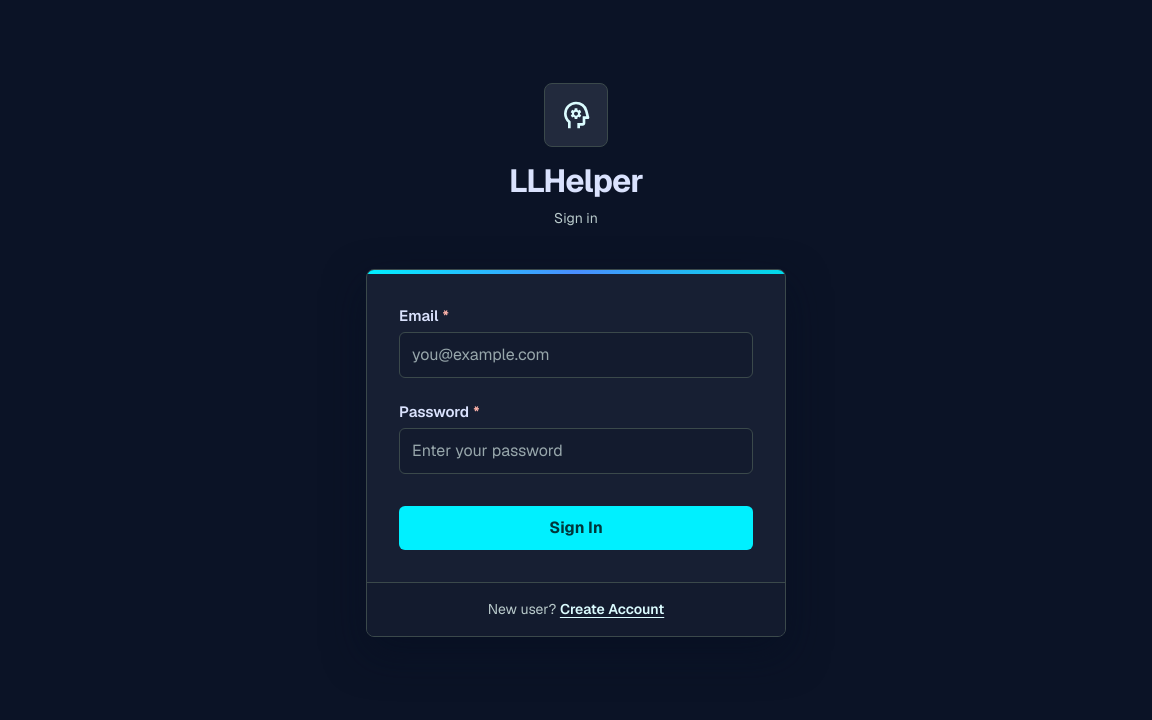
Login orchestration › keeps the token and opens profile onboarding when the profile is missing
The width and height of the screenshot is (1152, 720).
Step 1. Type "learner@example.com" into the field labelled "Email" → (576, 355), box [399,332,753,378]
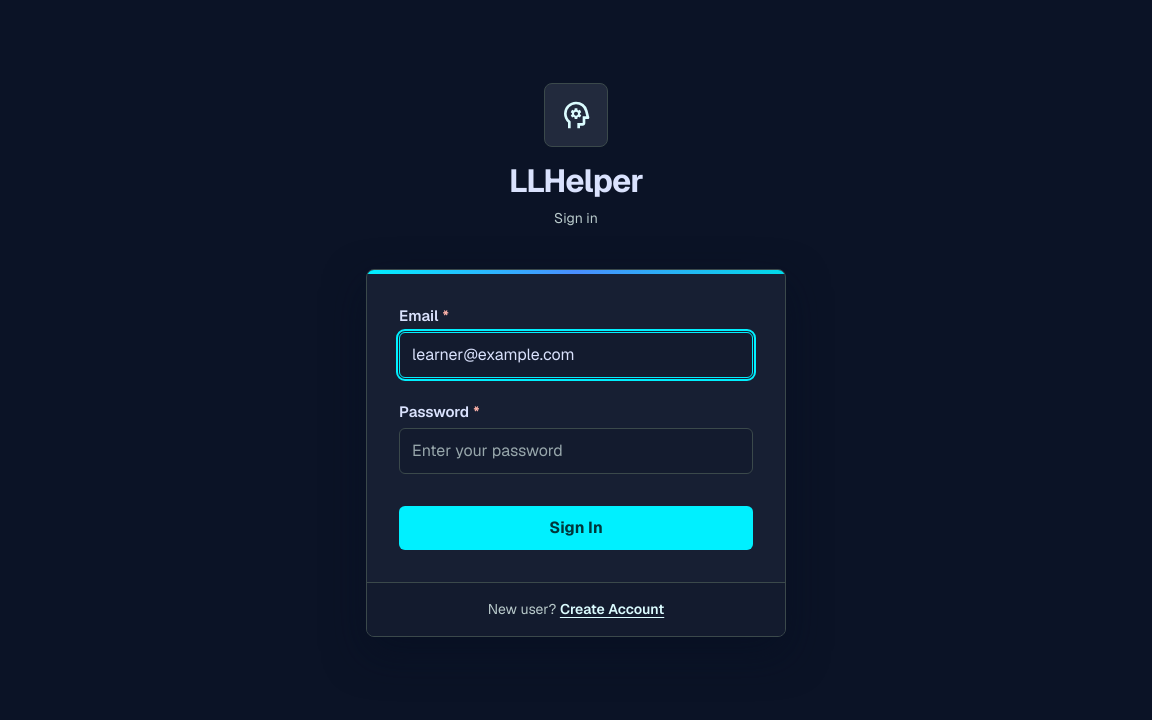
Step 2. Type "password123" into the password field labelled "Password*" → (576, 451), box [399,428,753,474]
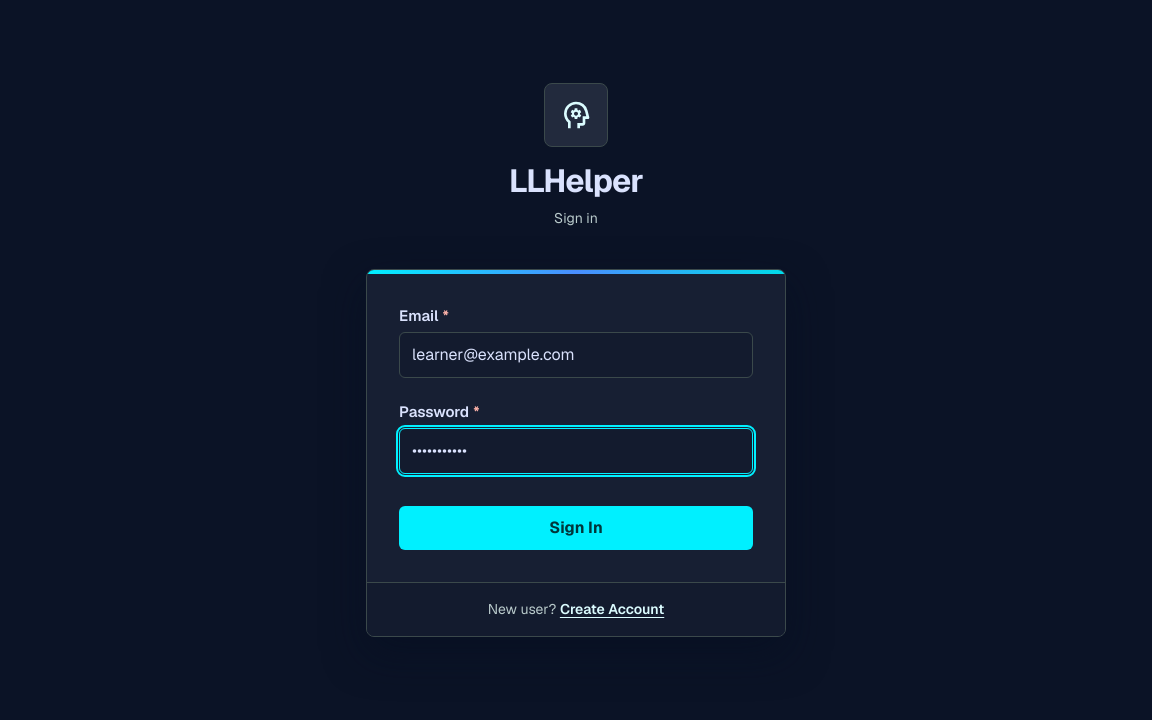
Step 3. Click the button "Sign In" → (576, 528), box [399,506,753,550]
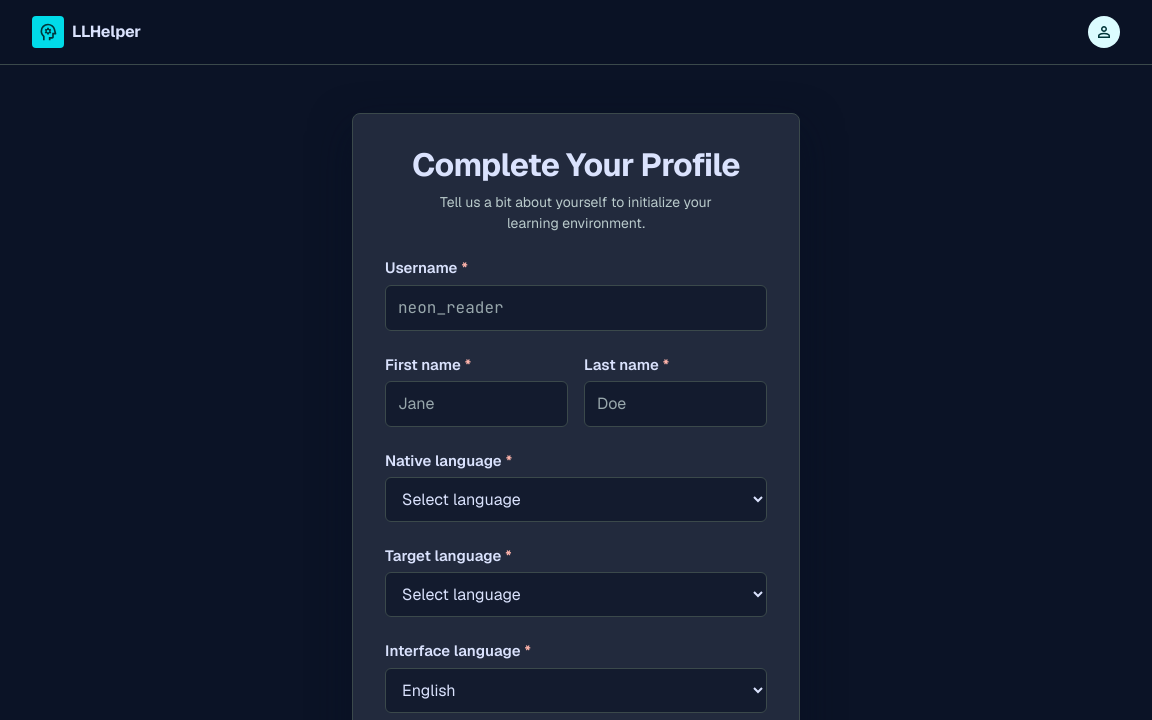
Expected: the heading "Complete Your Profile" is shown, [385,146,767,184]
